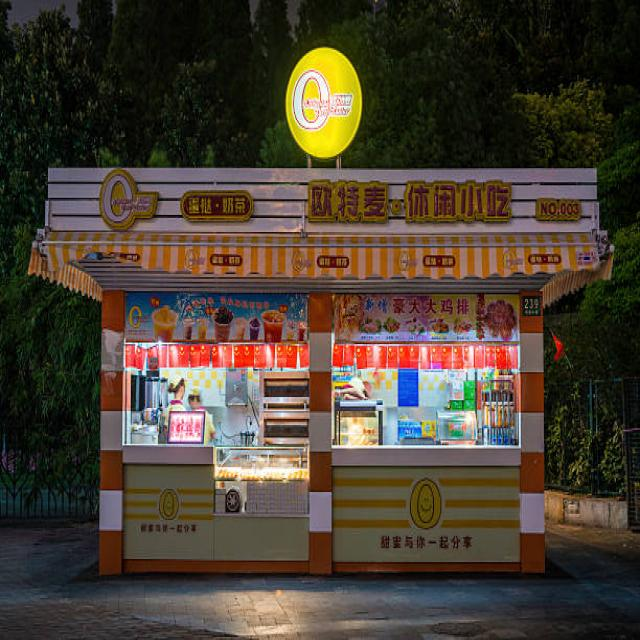Emperan: (21, 38, 623, 590)
